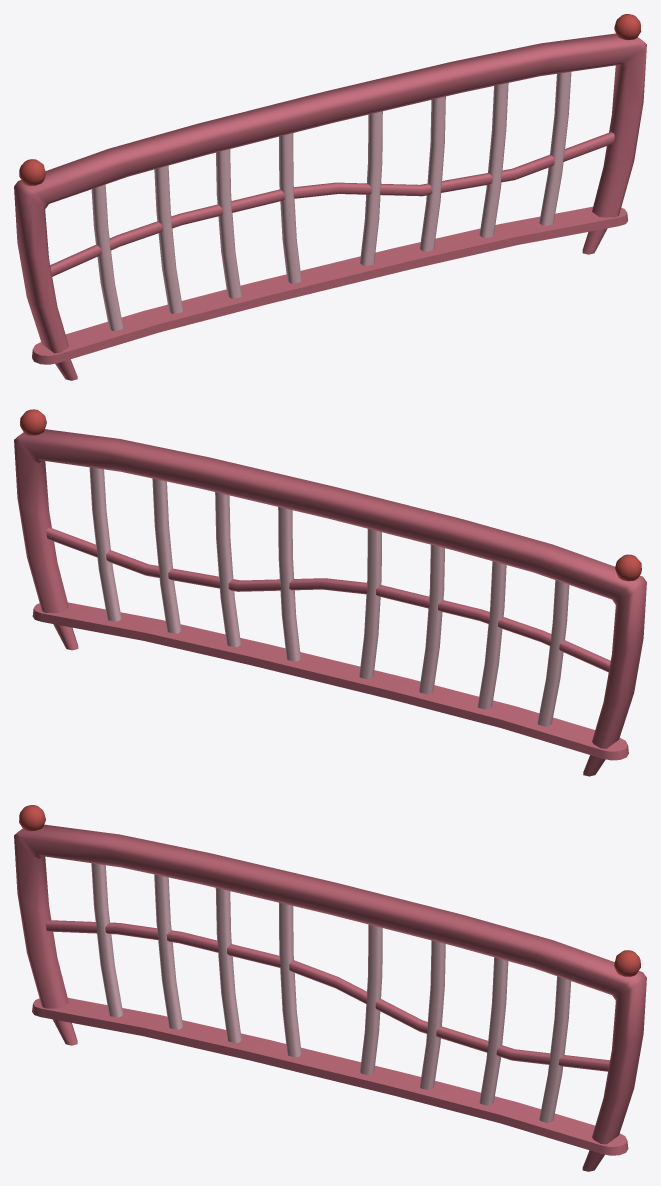
File: RailLarge_Mesh.FBX
3 views of the same model, one above another, from view 1: azimuth 30°, elevation 25°; view 2: azimuth 150°, elevation 25°; view 3: azimuth 330°, elevation 25° (orthographic).
Visible parts, largest first — view 1: Rail_Large_Mesh; view 2: Rail_Large_Mesh; view 3: Rail_Large_Mesh.
Part boxes in pixels (x1,y1,x2,y2): Rail_Large_Mesh: [14, 14, 646, 380]; Rail_Large_Mesh: [14, 409, 646, 776]; Rail_Large_Mesh: [14, 805, 646, 1171].
Bounding box in the file's own units: 1127 × 394 × 55.08.
